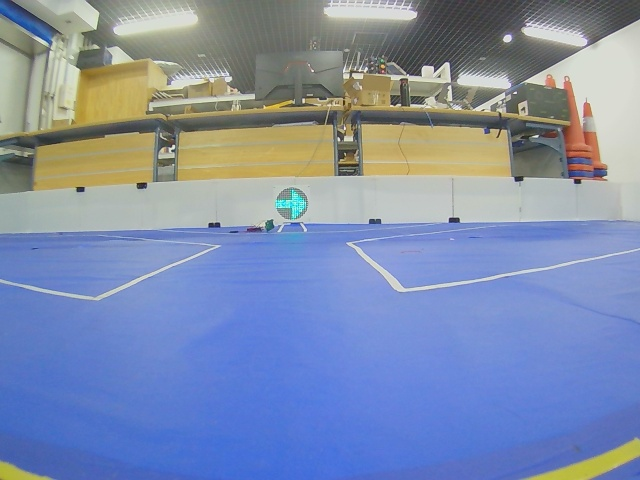right_green: (275, 187, 308, 220)
